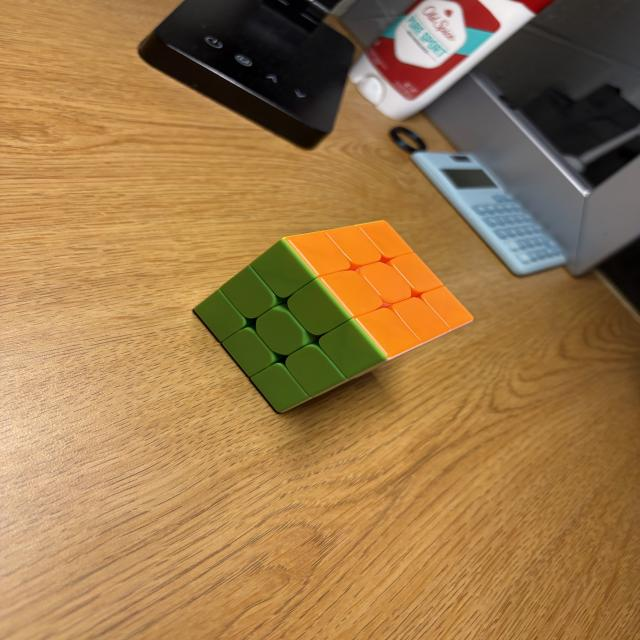Rubiks Cube: (187, 219, 473, 416)
